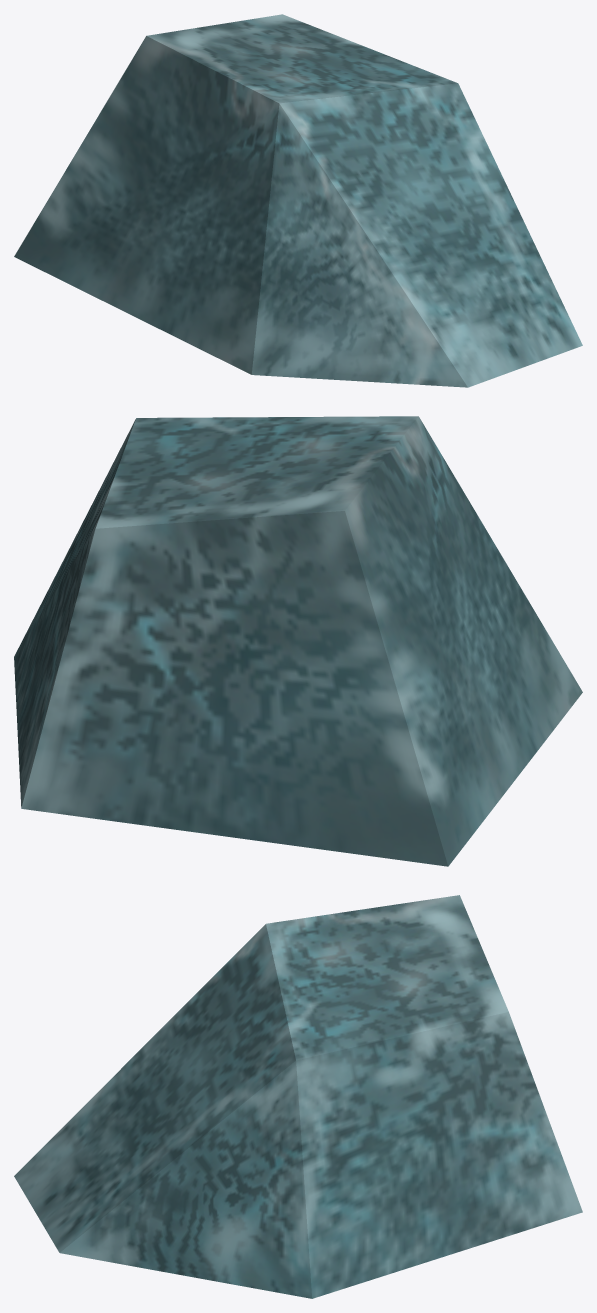
File: Rock.FBX
3 views of the same model, one above another, from view 1: azimuth 30°, elevation 25°; view 2: azimuth 150°, elevation 25°; view 3: azimuth 270°, elevation 25° (orthographic). The views are drawn at different scales.
Parts seen in each view (by area): view 1: Object001; view 2: Object001; view 3: Object001.
Boxes of the visible parts, bbox=[...] form: Object001: bbox=[14, 14, 582, 387]; Object001: bbox=[14, 416, 582, 866]; Object001: bbox=[14, 895, 582, 1298].
Bounding box in the file's own units: 44.59 × 24.05 × 50.66.
